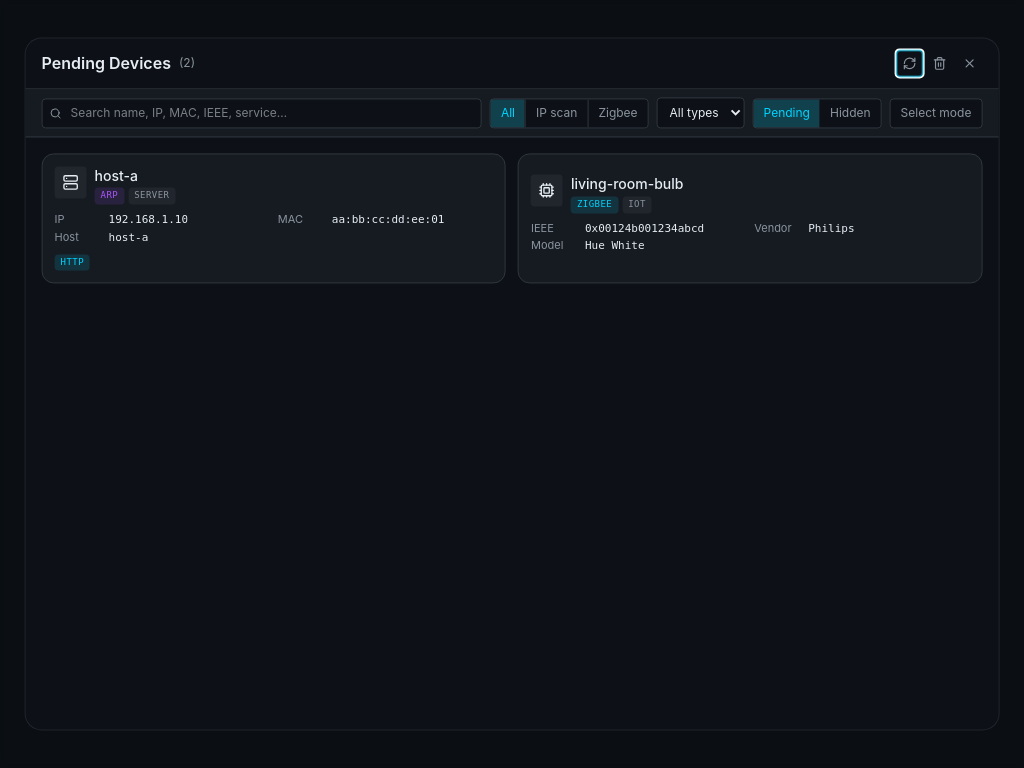
Scenario: PendingDevicesModal › select all visible selects only filtered devices
This screenshot has width=1024, height=768.
expect the button with test id "pending-card-dev-a" is shown: met, box [42,153,506,284]
Click the button "Select mode": click(936, 113) [890,98,982,128]
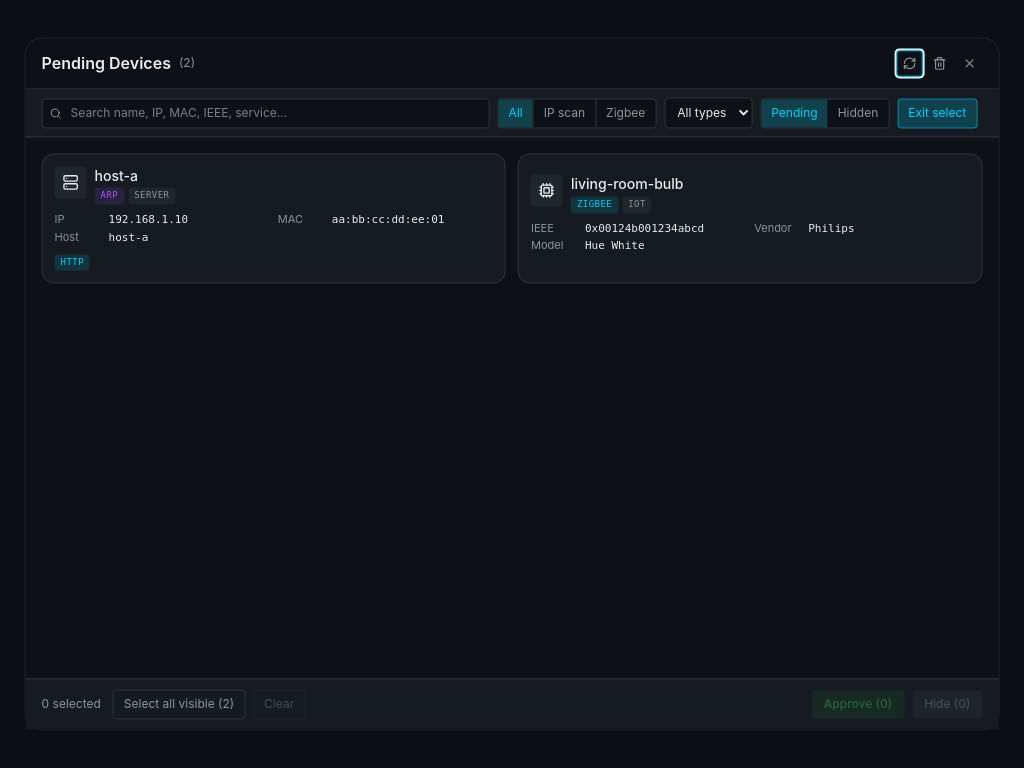
In the field with placeholder "Search name, IP, MAC, IEEE, service…": (266, 113) [42,98,490,128], type "host-a"
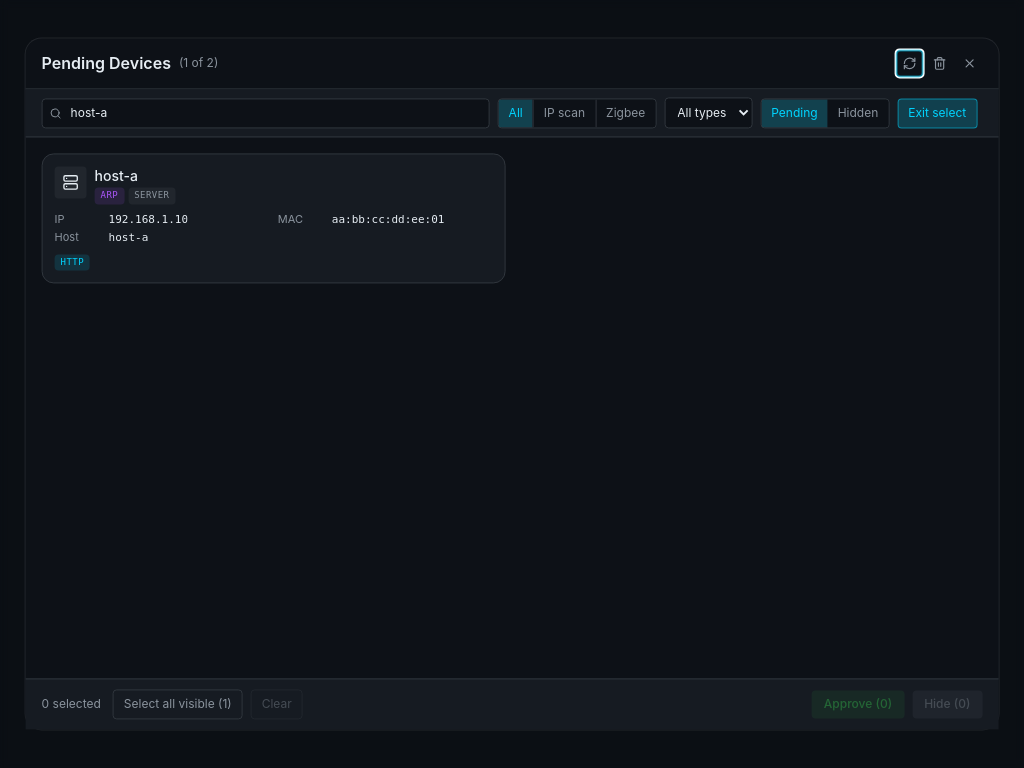
Click the button "Select all visible (1)": click(178, 705) [113,690,243,720]
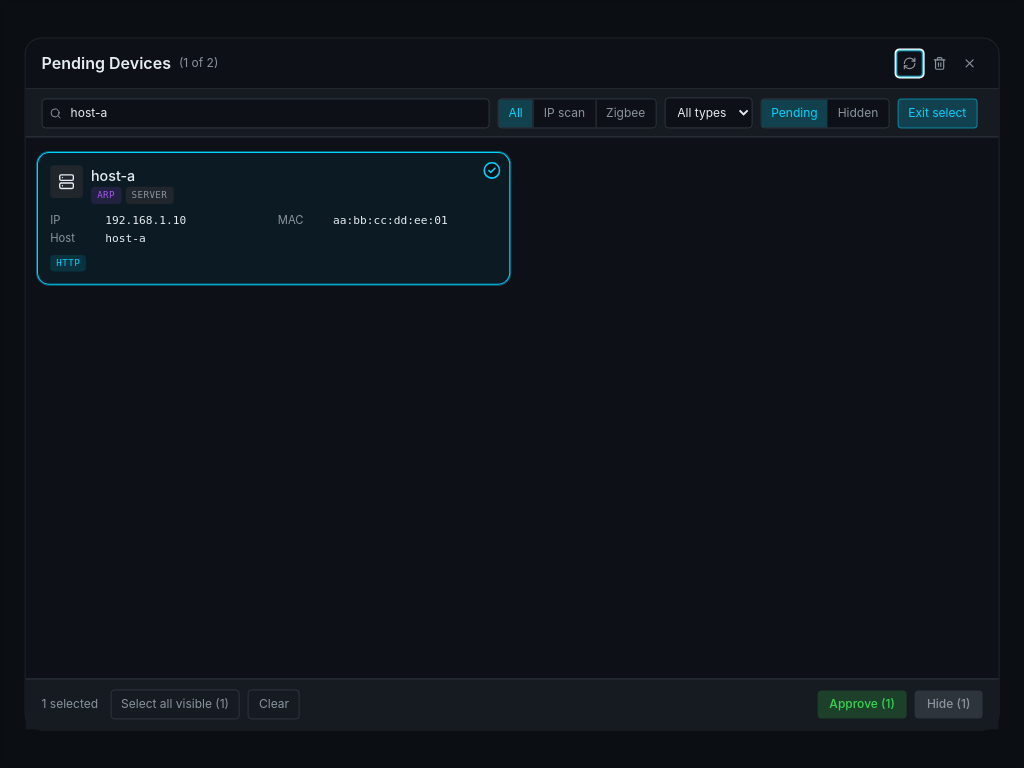
expect the text "1 selected" is shown: met, box [42,697,98,713]
